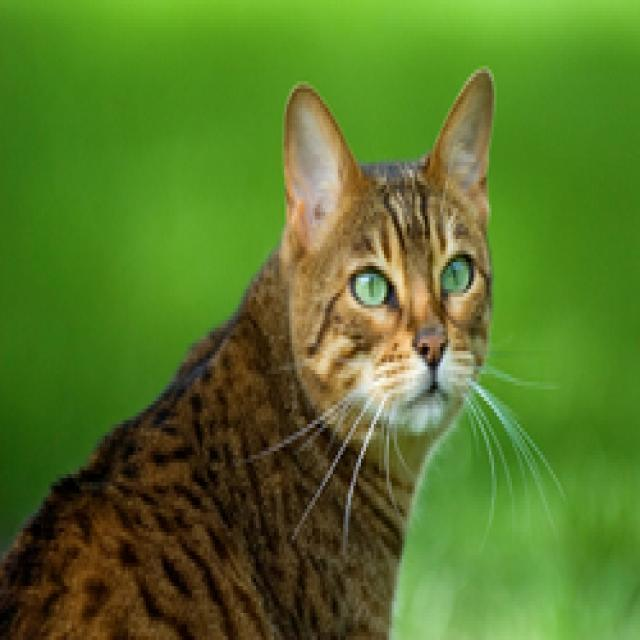Bengal: (282, 80, 506, 452)
